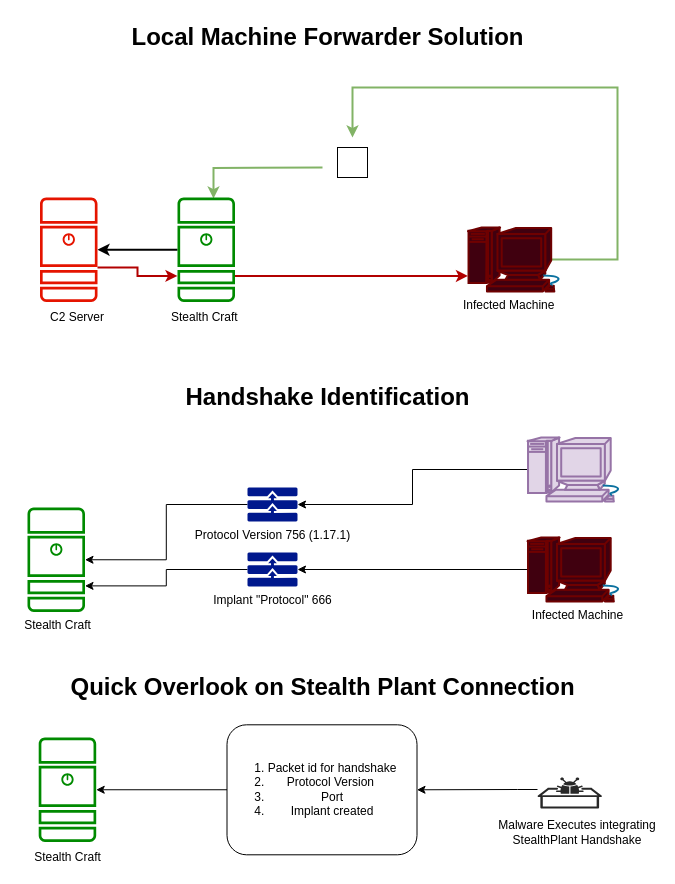
Image size: 675x884. Some labels were removed from this diagram. Here are the shapes that lost their labels. From the top down, the centre of each, then its label:
At (x=352, y=162): "TCP Port 25565".
At (x=576, y=469): "Gamers".
